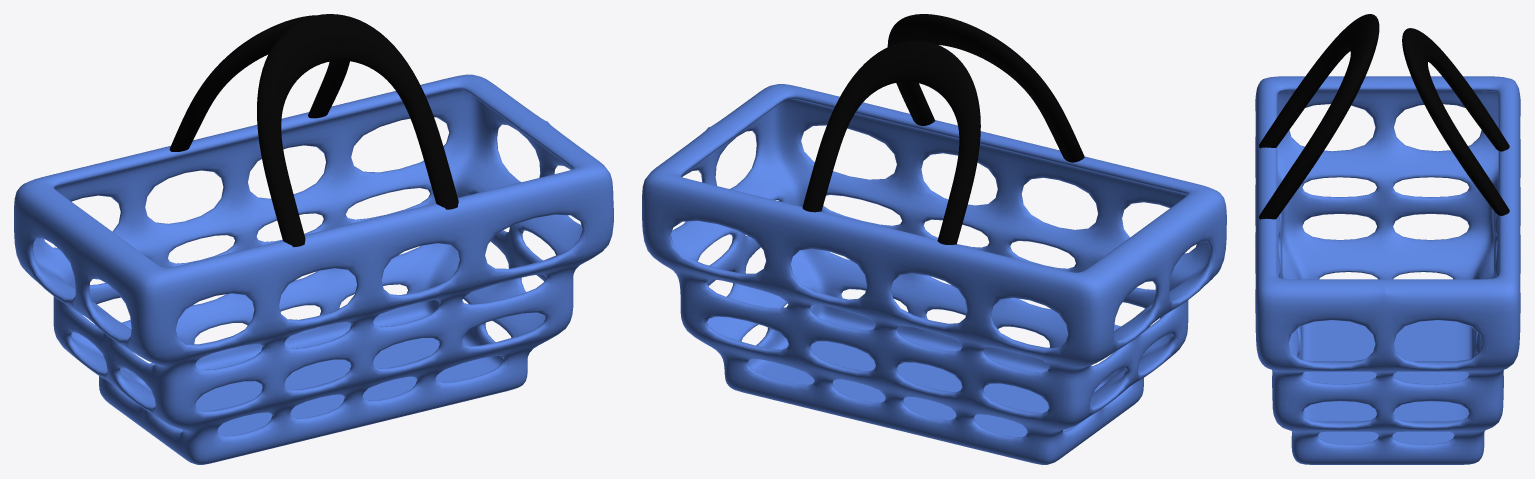
File: Shopping_Basket_Final.fbx
The picture shows the model from 3 angles, left to right: view 1: azimuth 30°, elevation 25°; view 2: azimuth 150°, elevation 25°; view 3: azimuth 270°, elevation 25°; orthographic projection. The views are drawn at different scales.
Parts seen in each view (by area): view 1: Basket, Handles2, Handles1; view 2: Basket, Handles1, Handles2; view 3: Basket, Handles2, Handles1.
Boxes of the visible parts, box(x1,y1,x2,y2) form: Basket: box(14, 74, 613, 464); Handles2: box(257, 14, 458, 247); Handles1: box(169, 15, 349, 151); Basket: box(642, 84, 1226, 464); Handles1: box(802, 40, 980, 244); Handles2: box(887, 14, 1084, 162); Basket: box(1255, 76, 1520, 464); Handles2: box(1259, 14, 1379, 219); Handles1: box(1402, 28, 1509, 215).
Bounding box in the file's own units: 2.48 × 1.92 × 1.26.
